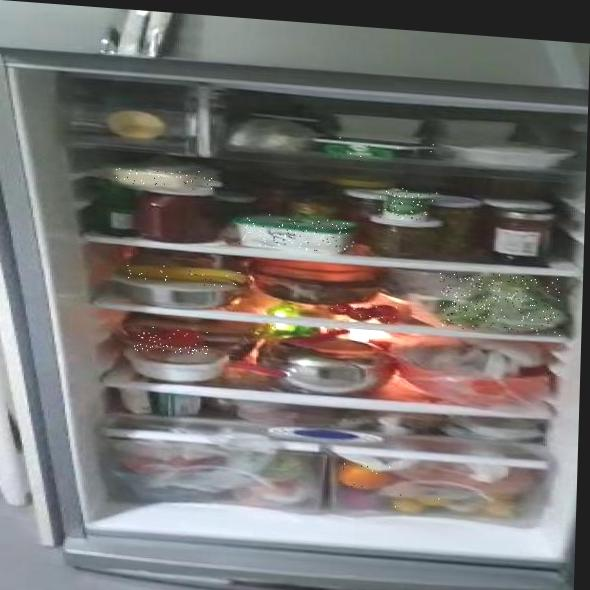banana: (126, 262, 252, 289)
cheese: (236, 212, 354, 254), (116, 165, 212, 191)
cream cheese: (315, 136, 442, 164)
lemon: (391, 494, 450, 516)
lettuce: (439, 270, 562, 336)
orange: (337, 463, 395, 490)
tomatoes: (134, 326, 209, 356), (331, 301, 400, 325)
yoghurt: (377, 186, 437, 222)
